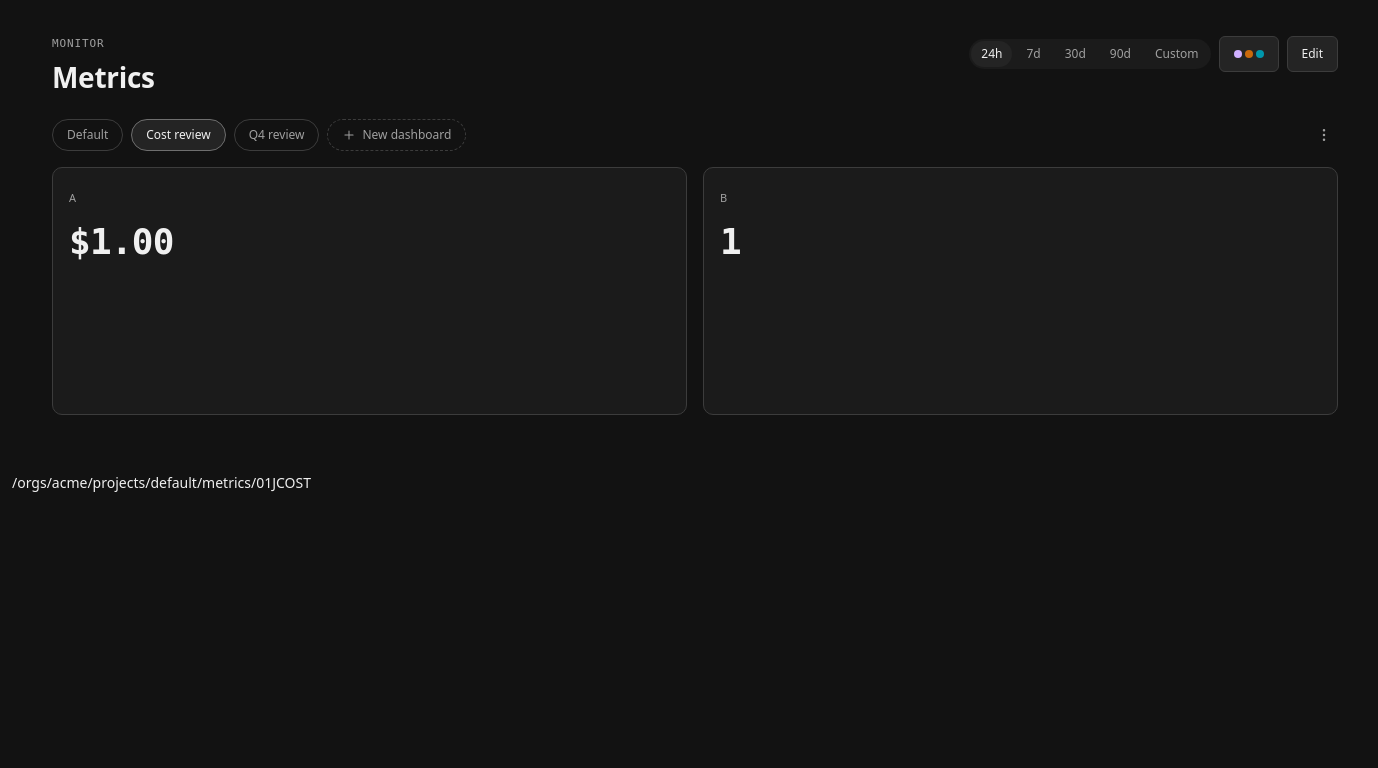
Test: editing › aFailedSaveStaysInEditModeAndSaysWhy
Click the button "Edit": [1312, 54] box [1286, 36, 1338, 72]
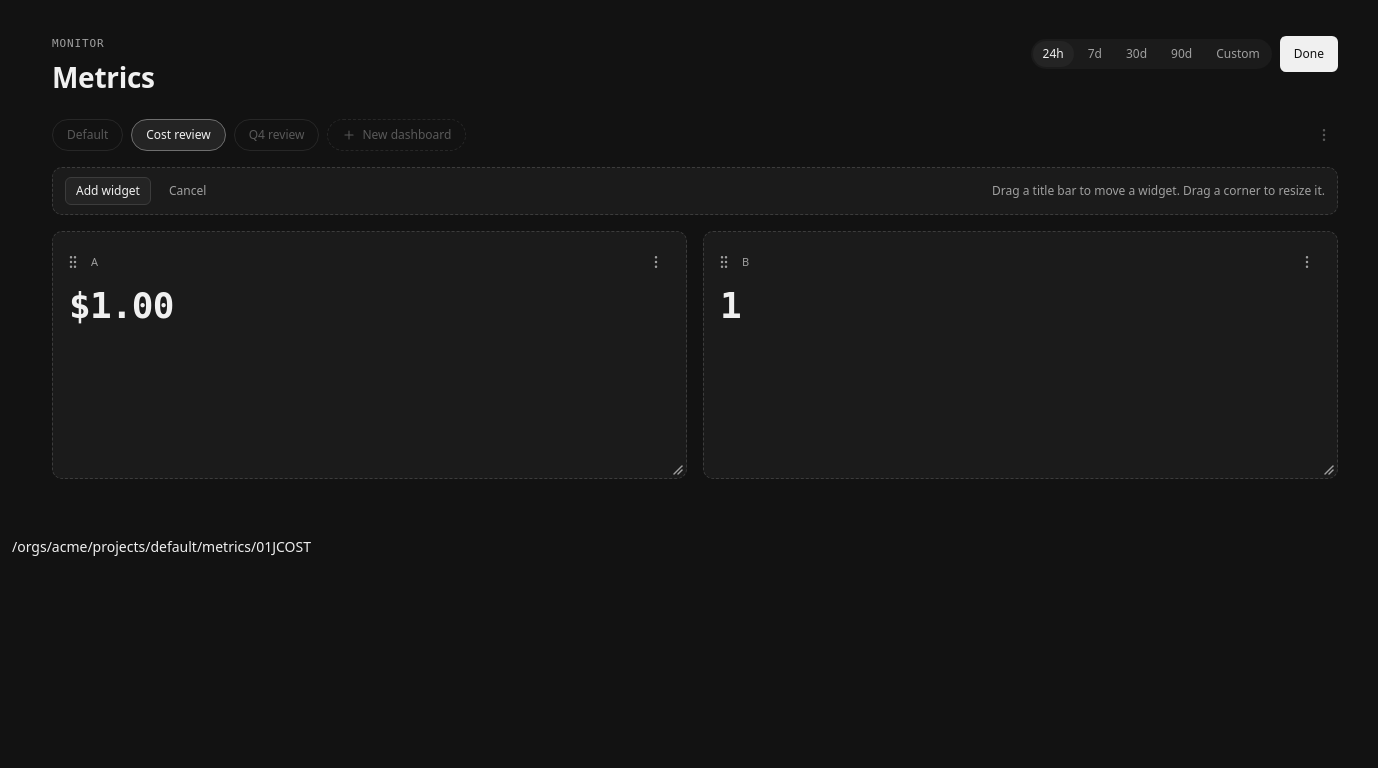
Click the button "Done": [1309, 54] box [1280, 36, 1338, 72]
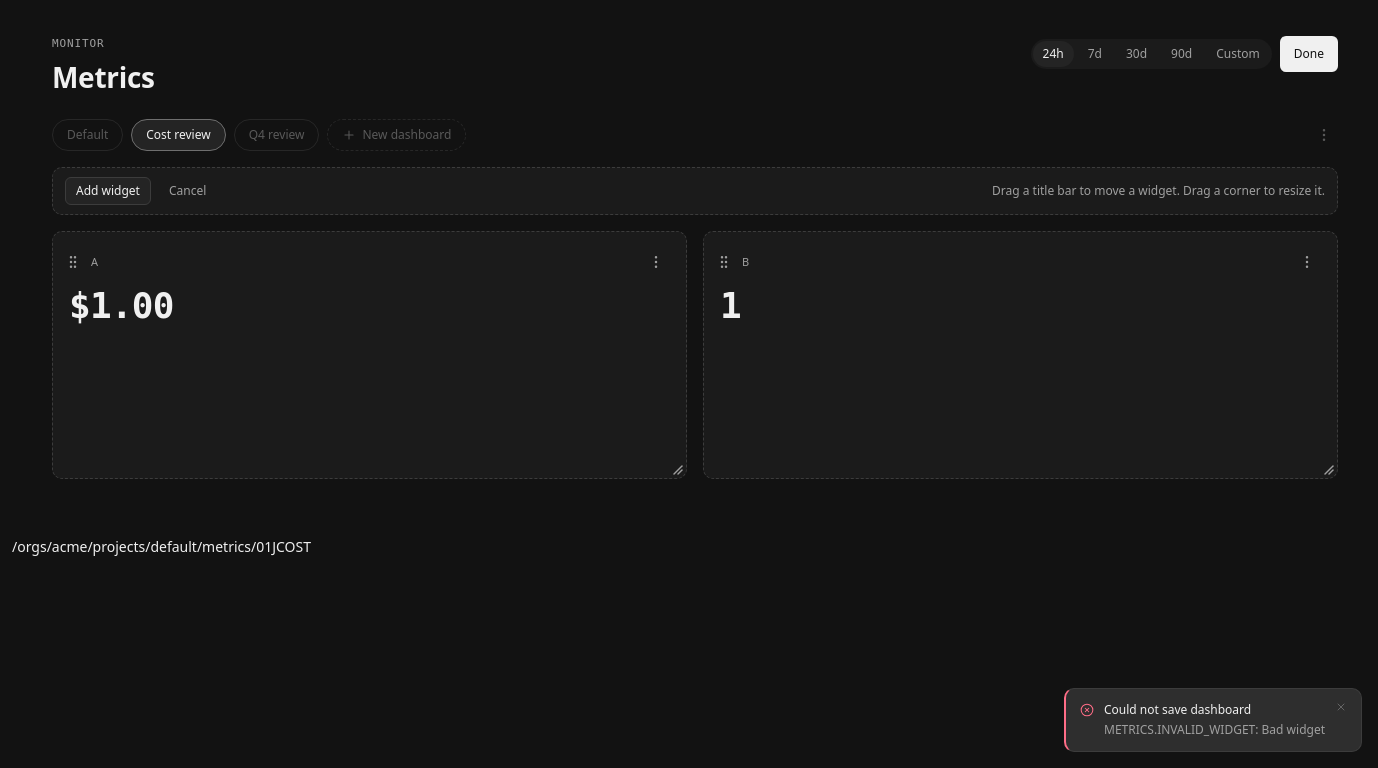
Result: the button "Done" is shown at [1280, 36, 1338, 72]
Result: the text "Could not save dashboard" is shown at [1104, 701, 1251, 718]
Result: the text "METRICS.INVALID_WIDGET: Bad widget" is shown at [1104, 721, 1325, 739]
